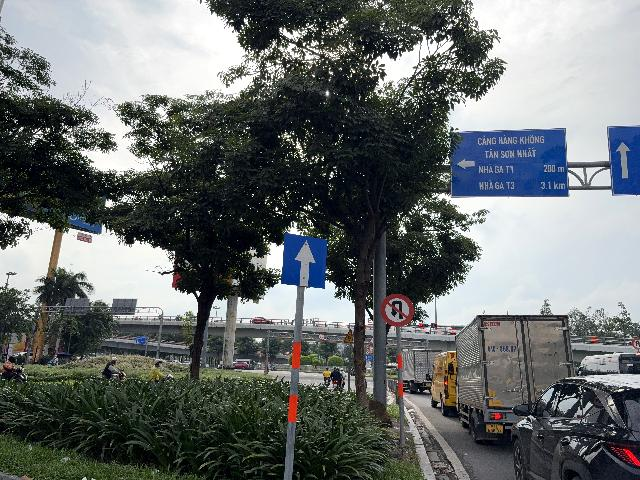cam-quay-dau-xe: (380, 293, 414, 327)
duong-mot-chieu: (281, 232, 327, 289)
